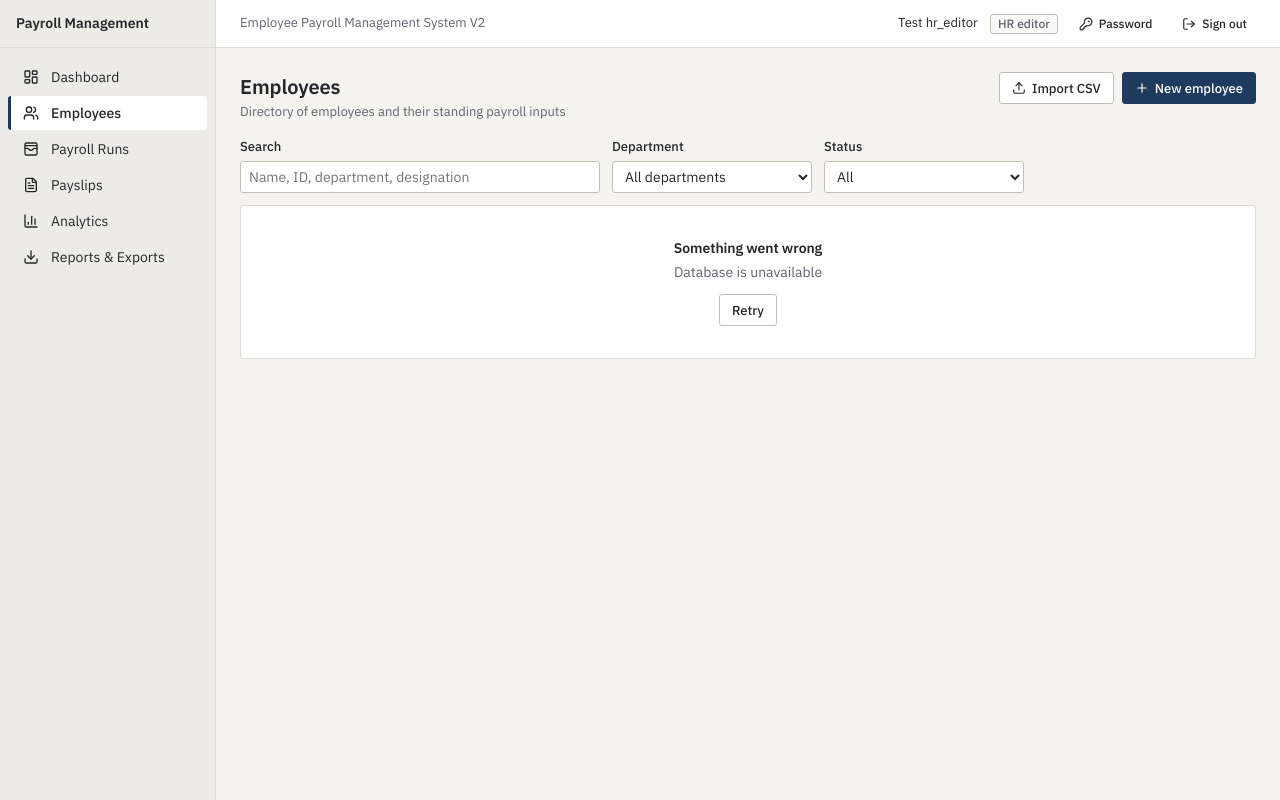
Scenario: Employees directory › shows the backend error message and recovers on Retry
Expected: the text "Database is unavailable" is shown, [674,263,822,281]
Click the button "Retry" at (748, 310), box [719,294,777,326]
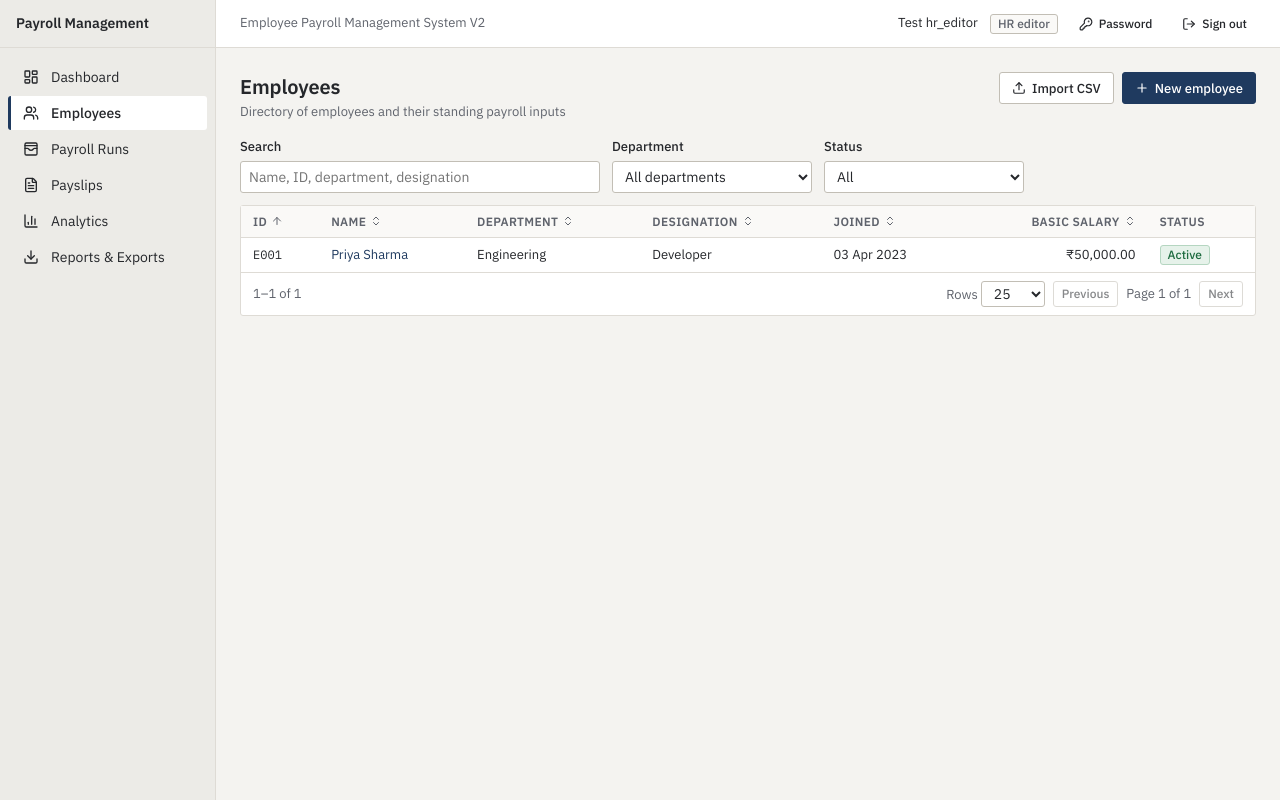
Now the link "Priya Sharma" is shown, box [331,246,408,263]
